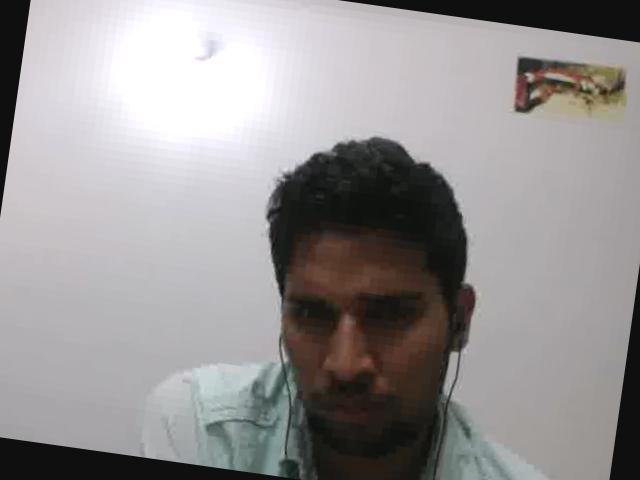bingung: (253, 213, 460, 464)
